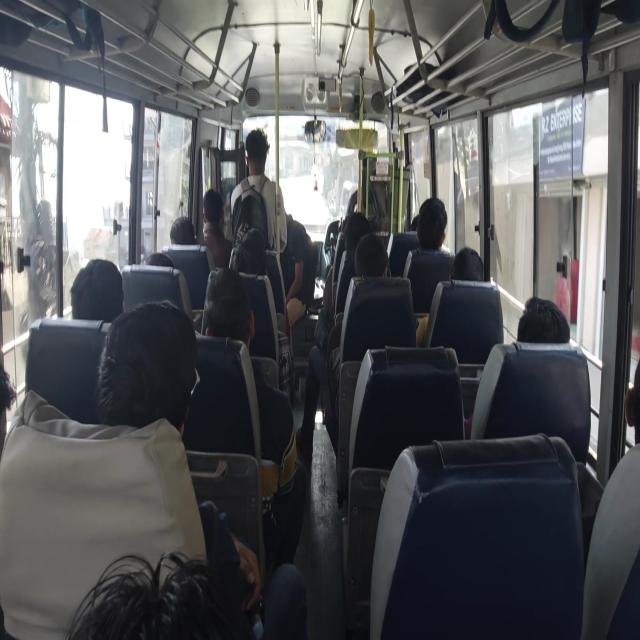person: (40, 528, 238, 640), (113, 318, 221, 449), (510, 281, 595, 429), (81, 251, 146, 352), (263, 207, 315, 322), (202, 279, 261, 352), (242, 130, 276, 198), (332, 197, 374, 251), (226, 242, 266, 294), (198, 188, 237, 235), (616, 358, 640, 432), (420, 193, 450, 241), (172, 213, 202, 260), (358, 238, 387, 284), (458, 236, 484, 281), (142, 242, 173, 274), (247, 240, 272, 265), (406, 205, 422, 228)
